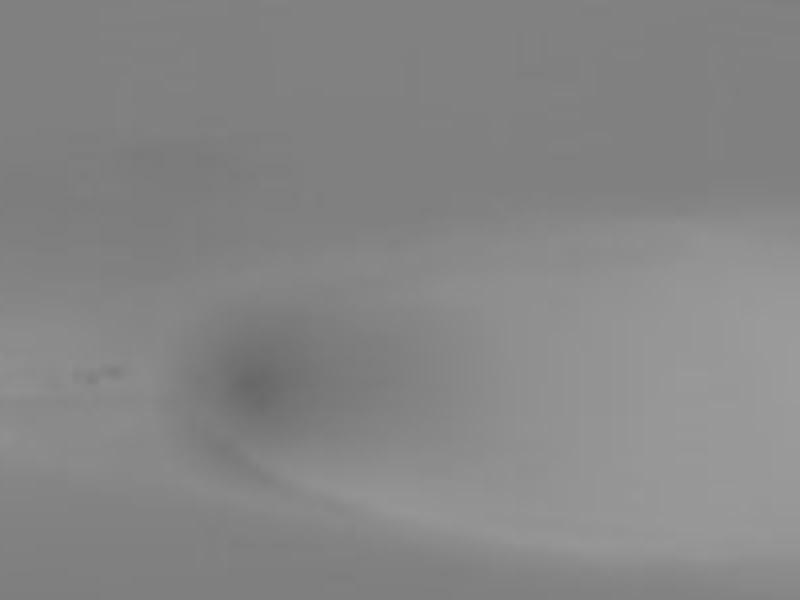defect: (187, 331, 306, 435), (85, 366, 103, 385), (103, 363, 123, 379)
